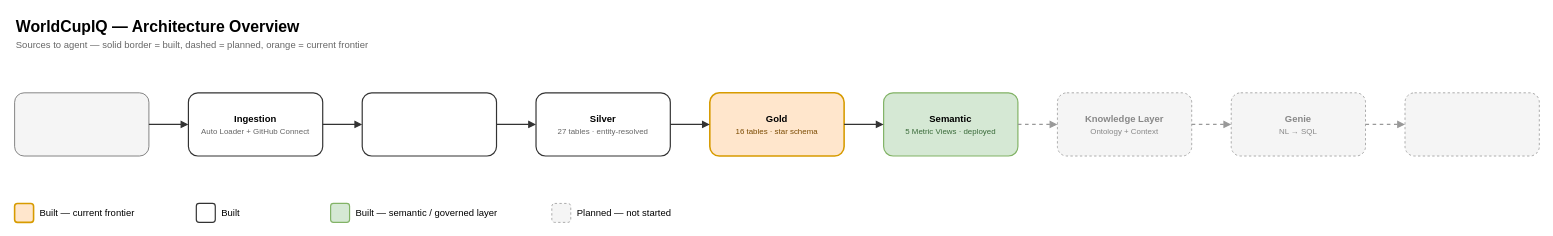
Some shapes in this 1553 by 236 pixel diagram are drawn without their labels. Each missing label, with the centre of its shape:
"Agent & App Mosaic AI · Streamlit" belongs at pixel 1471 124.
"Bronze 4 schemas · 60 tables" belongs at pixel 429 124.
"Data Sources 4 feeds · not yet landed" belongs at pixel 81 124.
